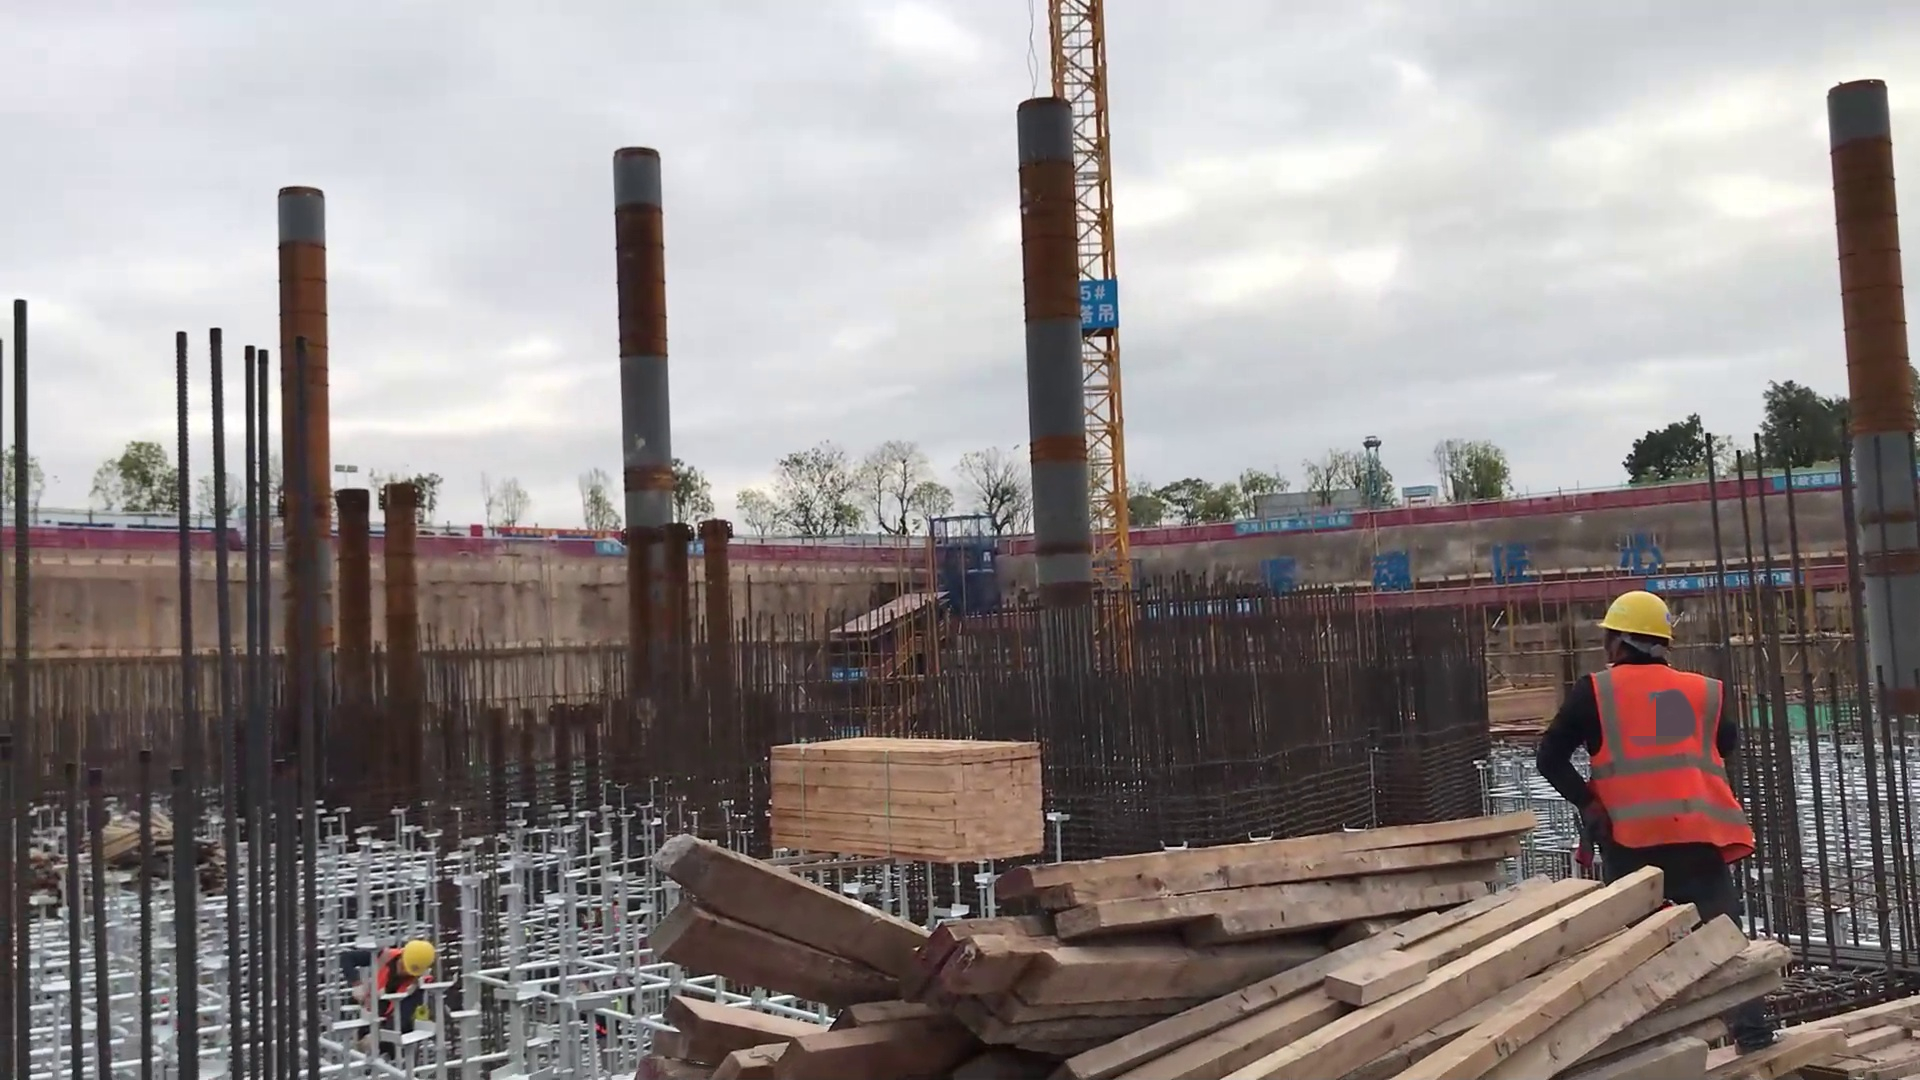helmet: (1583, 579, 1676, 652), (404, 937, 431, 979)
person: (1553, 588, 1724, 916), (346, 937, 436, 1030)
vest: (1581, 666, 1724, 856), (363, 957, 416, 1029)
wood: (643, 912, 1694, 1080), (774, 744, 1043, 866), (106, 804, 195, 883)
